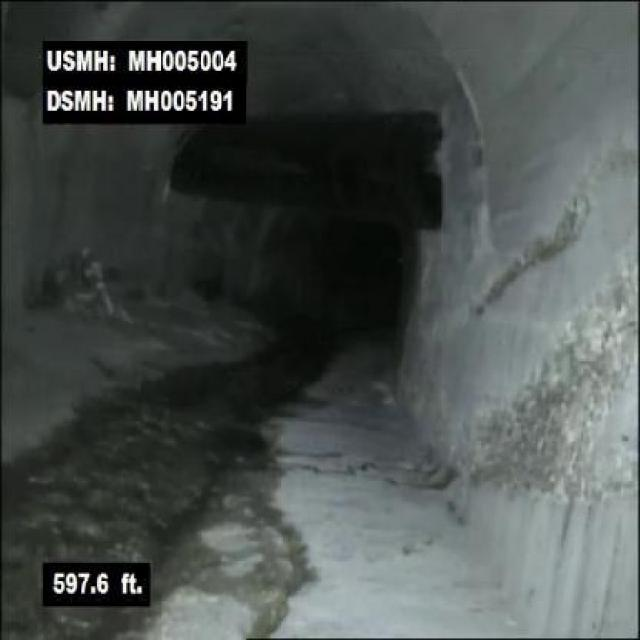Crack: (478, 182, 594, 312), (240, 503, 320, 639)
Utility intrusion: (163, 108, 445, 234)
